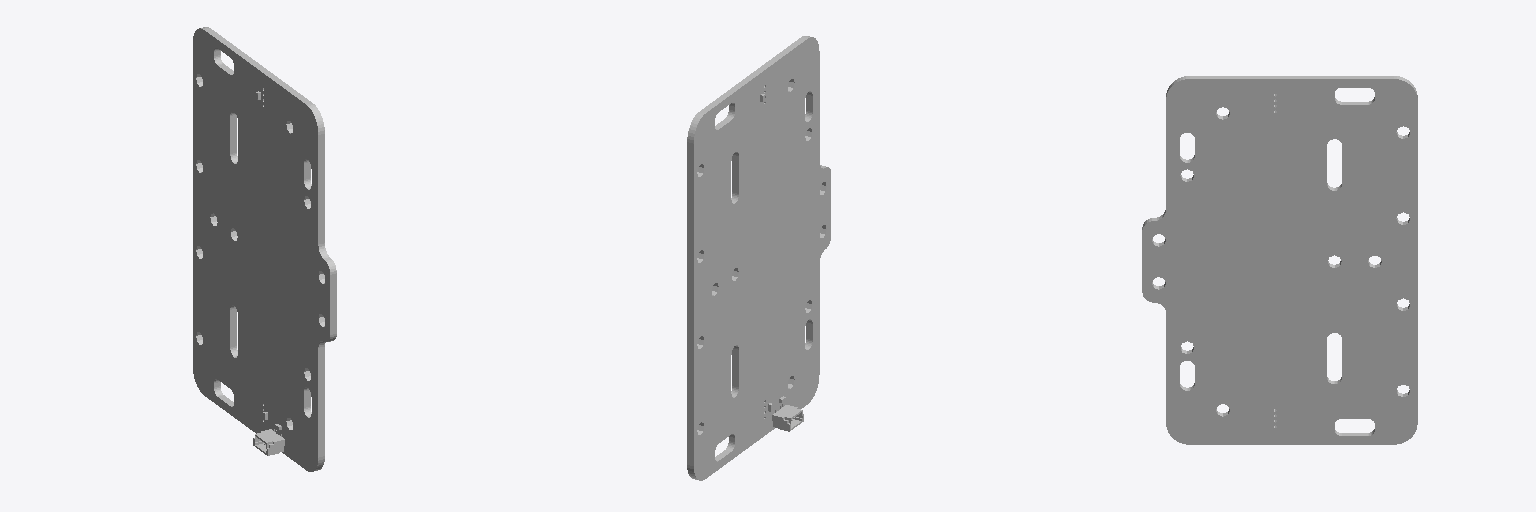
Rendered from back_bumper.obj.
The picture shows the model from 3 angles: view 1: azimuth 30°, elevation 25°; view 2: azimuth 150°, elevation 25°; view 3: azimuth 270°, elevation 25°; orthographic projection.
Visible parts, largest first — view 1: 3005-00_Back_Bumpe0001; view 2: 3005-00_Back_Bumpe0001; view 3: 3005-00_Back_Bumpe0001.
Boxes of the visible parts, x1=… form: 3005-00_Back_Bumpe0001: x1=193, y1=27, x2=336, y2=471; 3005-00_Back_Bumpe0001: x1=687, y1=36, x2=830, y2=480; 3005-00_Back_Bumpe0001: x1=1142, y1=76, x2=1417, y2=444.
Size of the model in its own units: 0.0059 by 0.085 by 0.058.